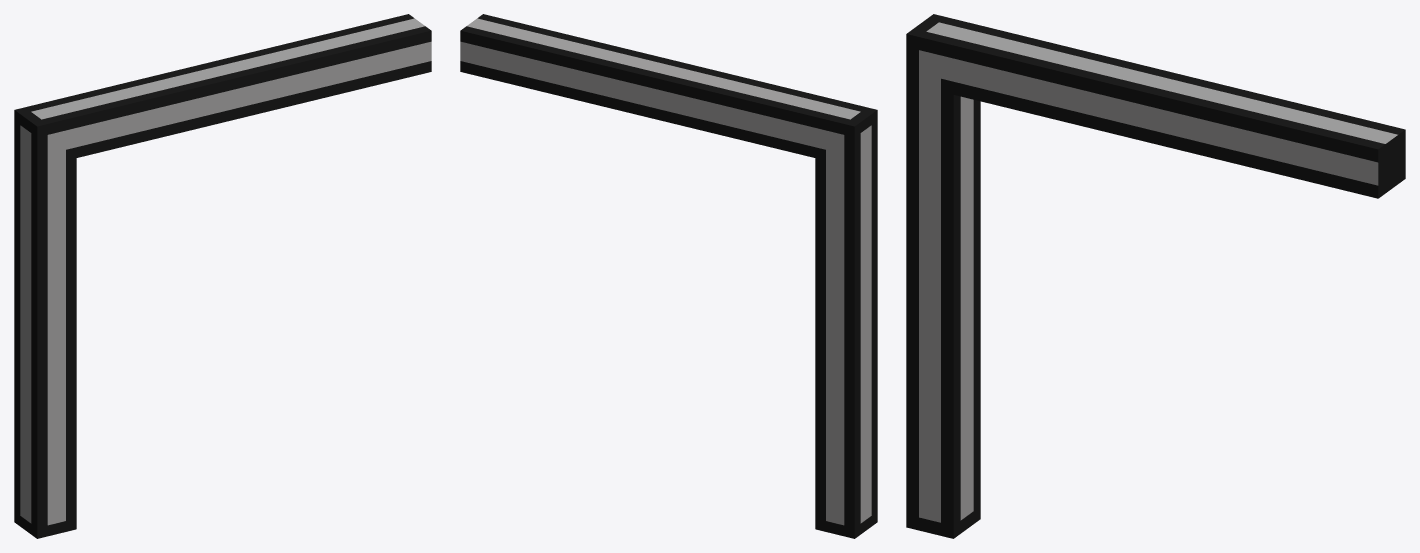
Rendered from Short Railing.fbx.
3 views of the same model, side by side, from view 1: azimuth 30°, elevation 25°; view 2: azimuth 150°, elevation 25°; view 3: azimuth 330°, elevation 25° (orthographic). The views are drawn at different scales.
Parts seen in each view (by area): view 1: Short Railing; view 2: Short Railing; view 3: Short Railing.
Boxes of the visible parts, <box> form: Short Railing: <box>14,14,431,538</box>; Short Railing: <box>460,14,877,538</box>; Short Railing: <box>906,14,1405,538</box>.
Size of the model in its own units: 0.1 by 1 by 1.
